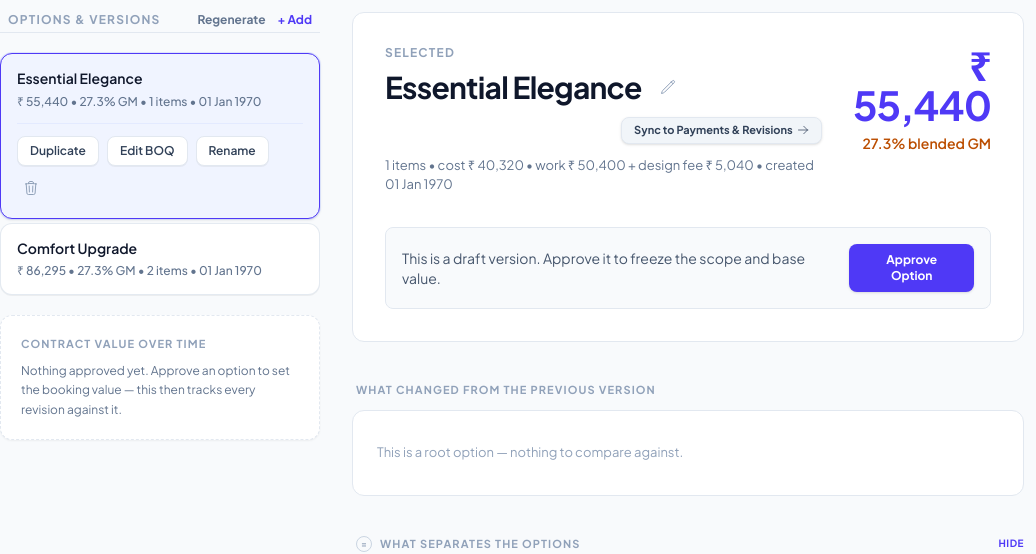
Test case: Pricing & Tiers: an approval can be reverted › after a re-approval, the contract it replaced is the baseline again
Click the button "Approve Option" at (912, 268), box [850, 244, 974, 292]
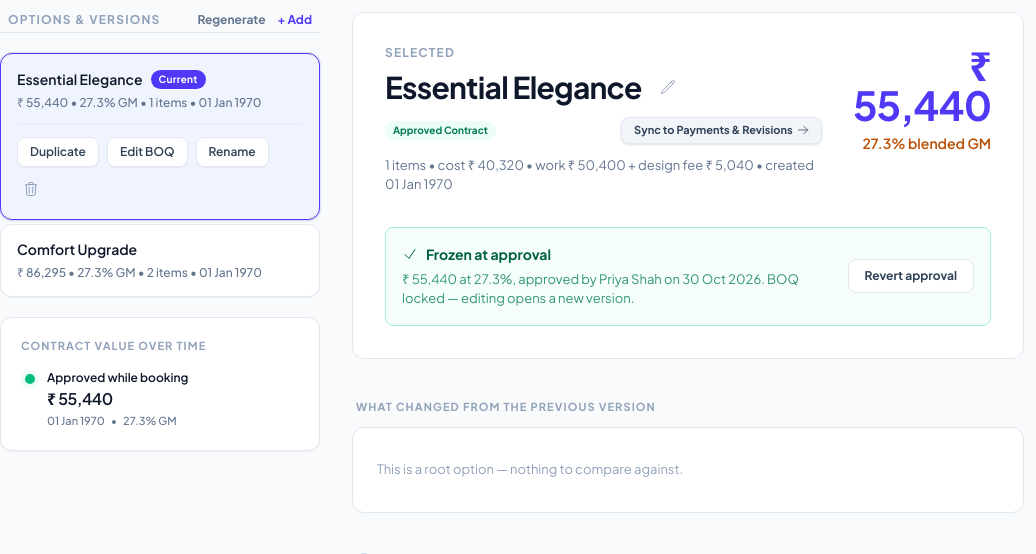
Click the 1st text "Comfort Upgrade" at (77, 250), box [17, 241, 137, 258]
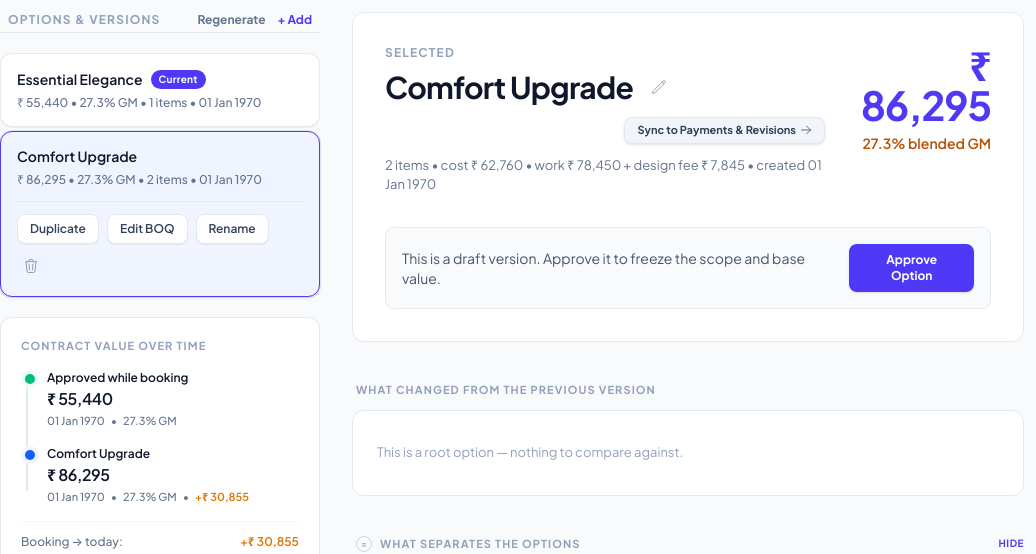
Click the button "Approve Option" at (912, 268), box [850, 244, 974, 292]
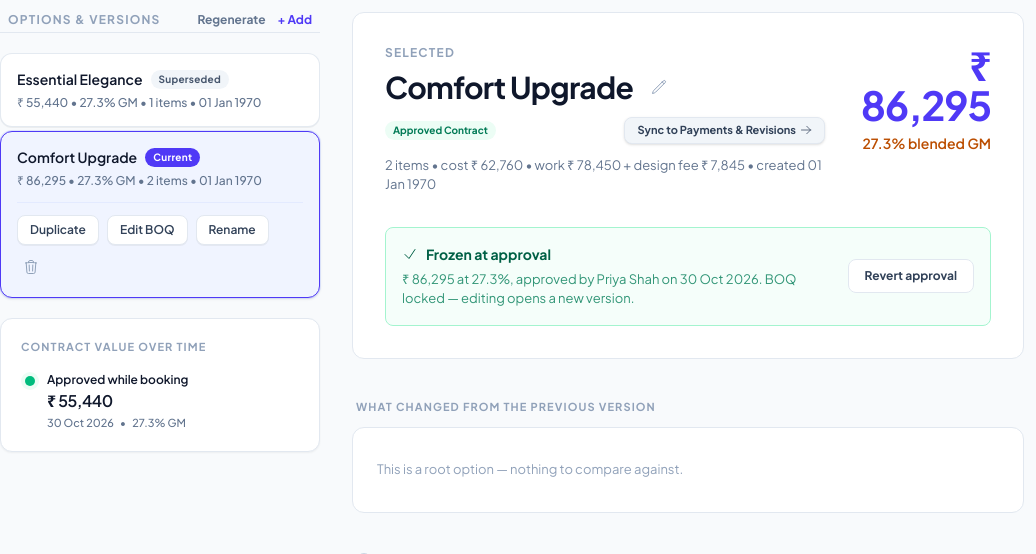
Click the button "Revert approval" at (911, 276), box [848, 259, 974, 293]
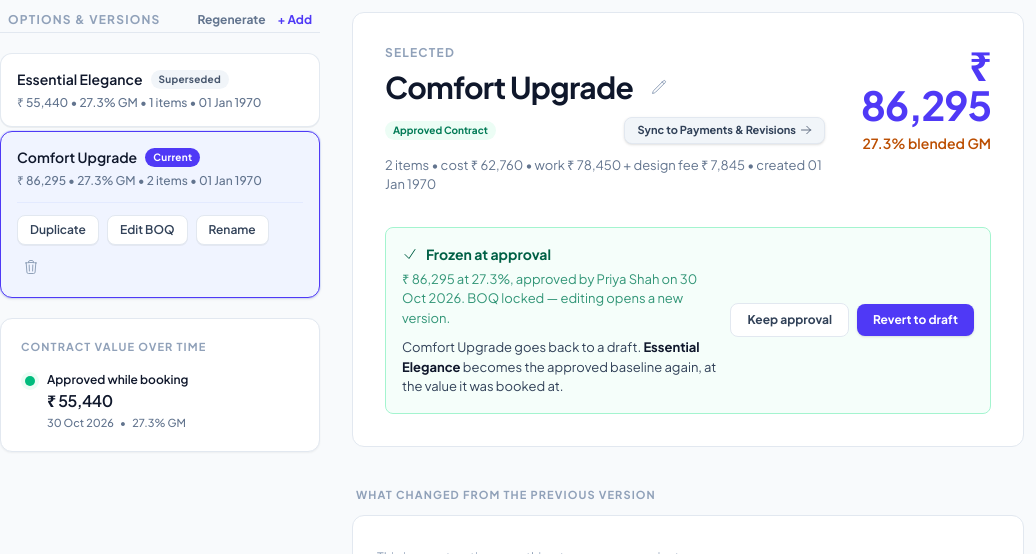
Result: the element with test id "revert-approval-confirm" shows "Essential Elegance becomes the approved baseline again" at [402, 338, 718, 396]
Click the button "Revert to draft" at (916, 320), box [857, 304, 974, 336]
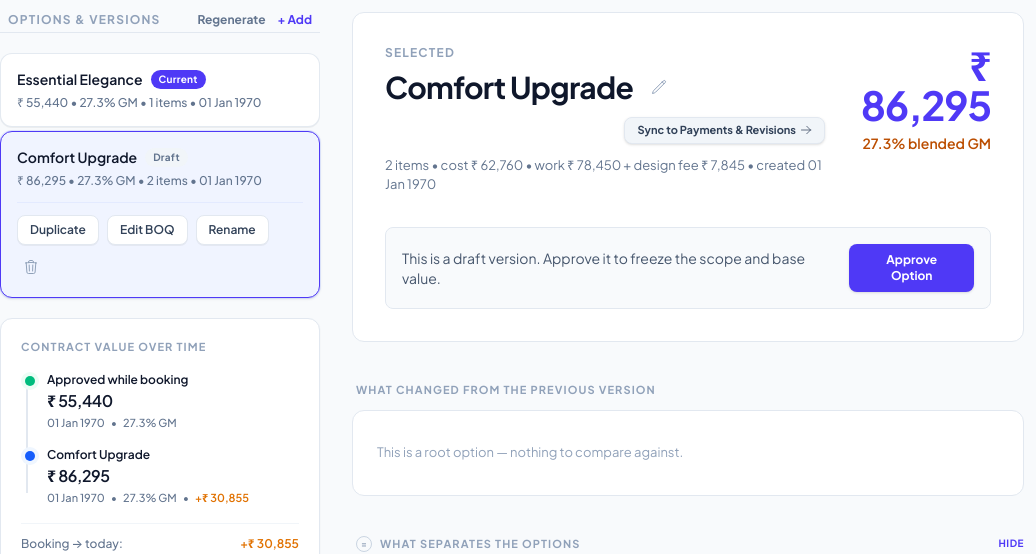
Result: the text "Draft" is shown at [145, 148, 188, 167]
